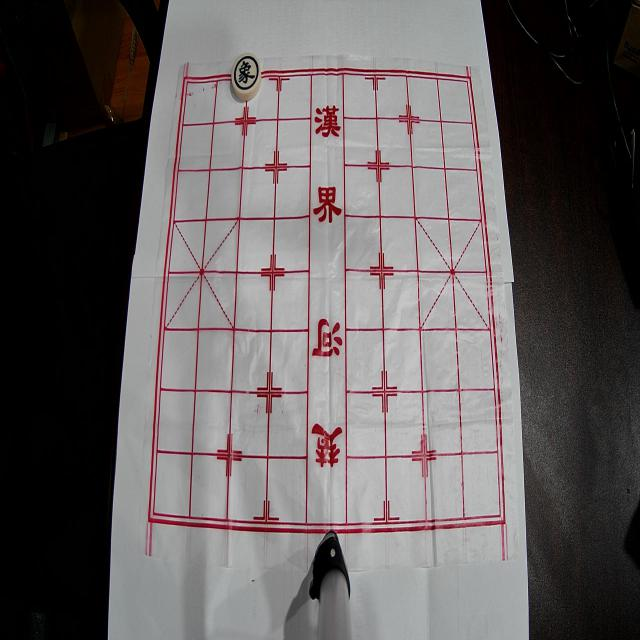black-elephant: (232, 53, 262, 101)
